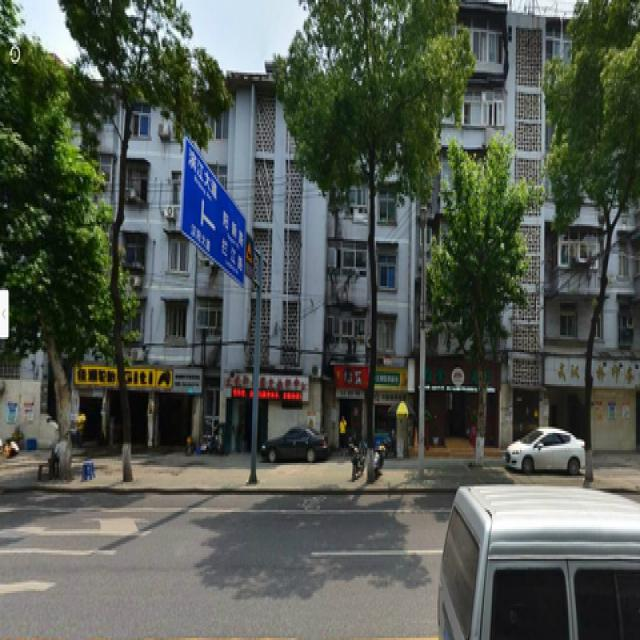cinn: (298, 4, 426, 465), (550, 21, 634, 468)
meta: (448, 134, 521, 457)
